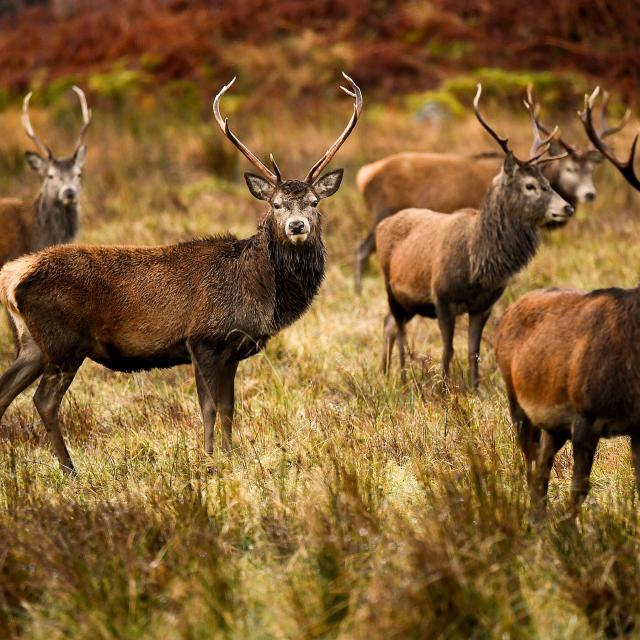deer: (0, 71, 362, 474), (375, 84, 574, 387), (0, 86, 91, 267)
